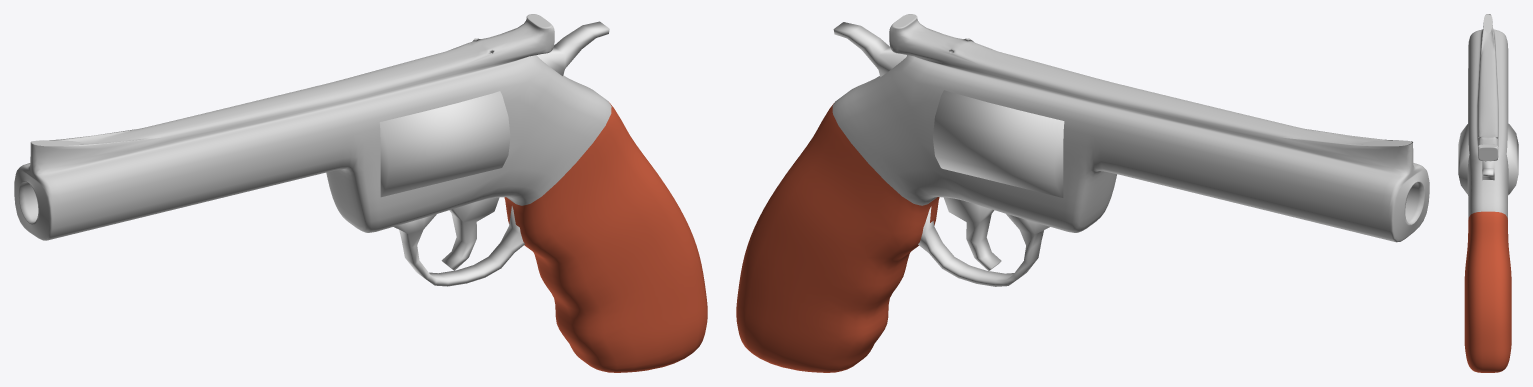
Rendered from Revolver.fbx.
The picture shows the model from 3 angles, left to right: view 1: azimuth 30°, elevation 25°; view 2: azimuth 150°, elevation 25°; view 3: azimuth 270°, elevation 25°; orthographic projection. The views are drawn at different scales.
Visible parts, largest first — view 1: Revolver, Hammer; view 2: Revolver, Hammer; view 3: Revolver, Hammer.
Part boxes in pixels (<box>): Revolver: <box>14,14,707,372</box>; Hammer: <box>379,21,609,286</box>; Revolver: <box>736,14,1429,372</box>; Hammer: <box>833,22,1064,286</box>; Revolver: <box>1464,14,1511,372</box>; Hammer: <box>1458,123,1518,194</box>.
Bounding box in the file's own units: 944 × 492 × 138.
